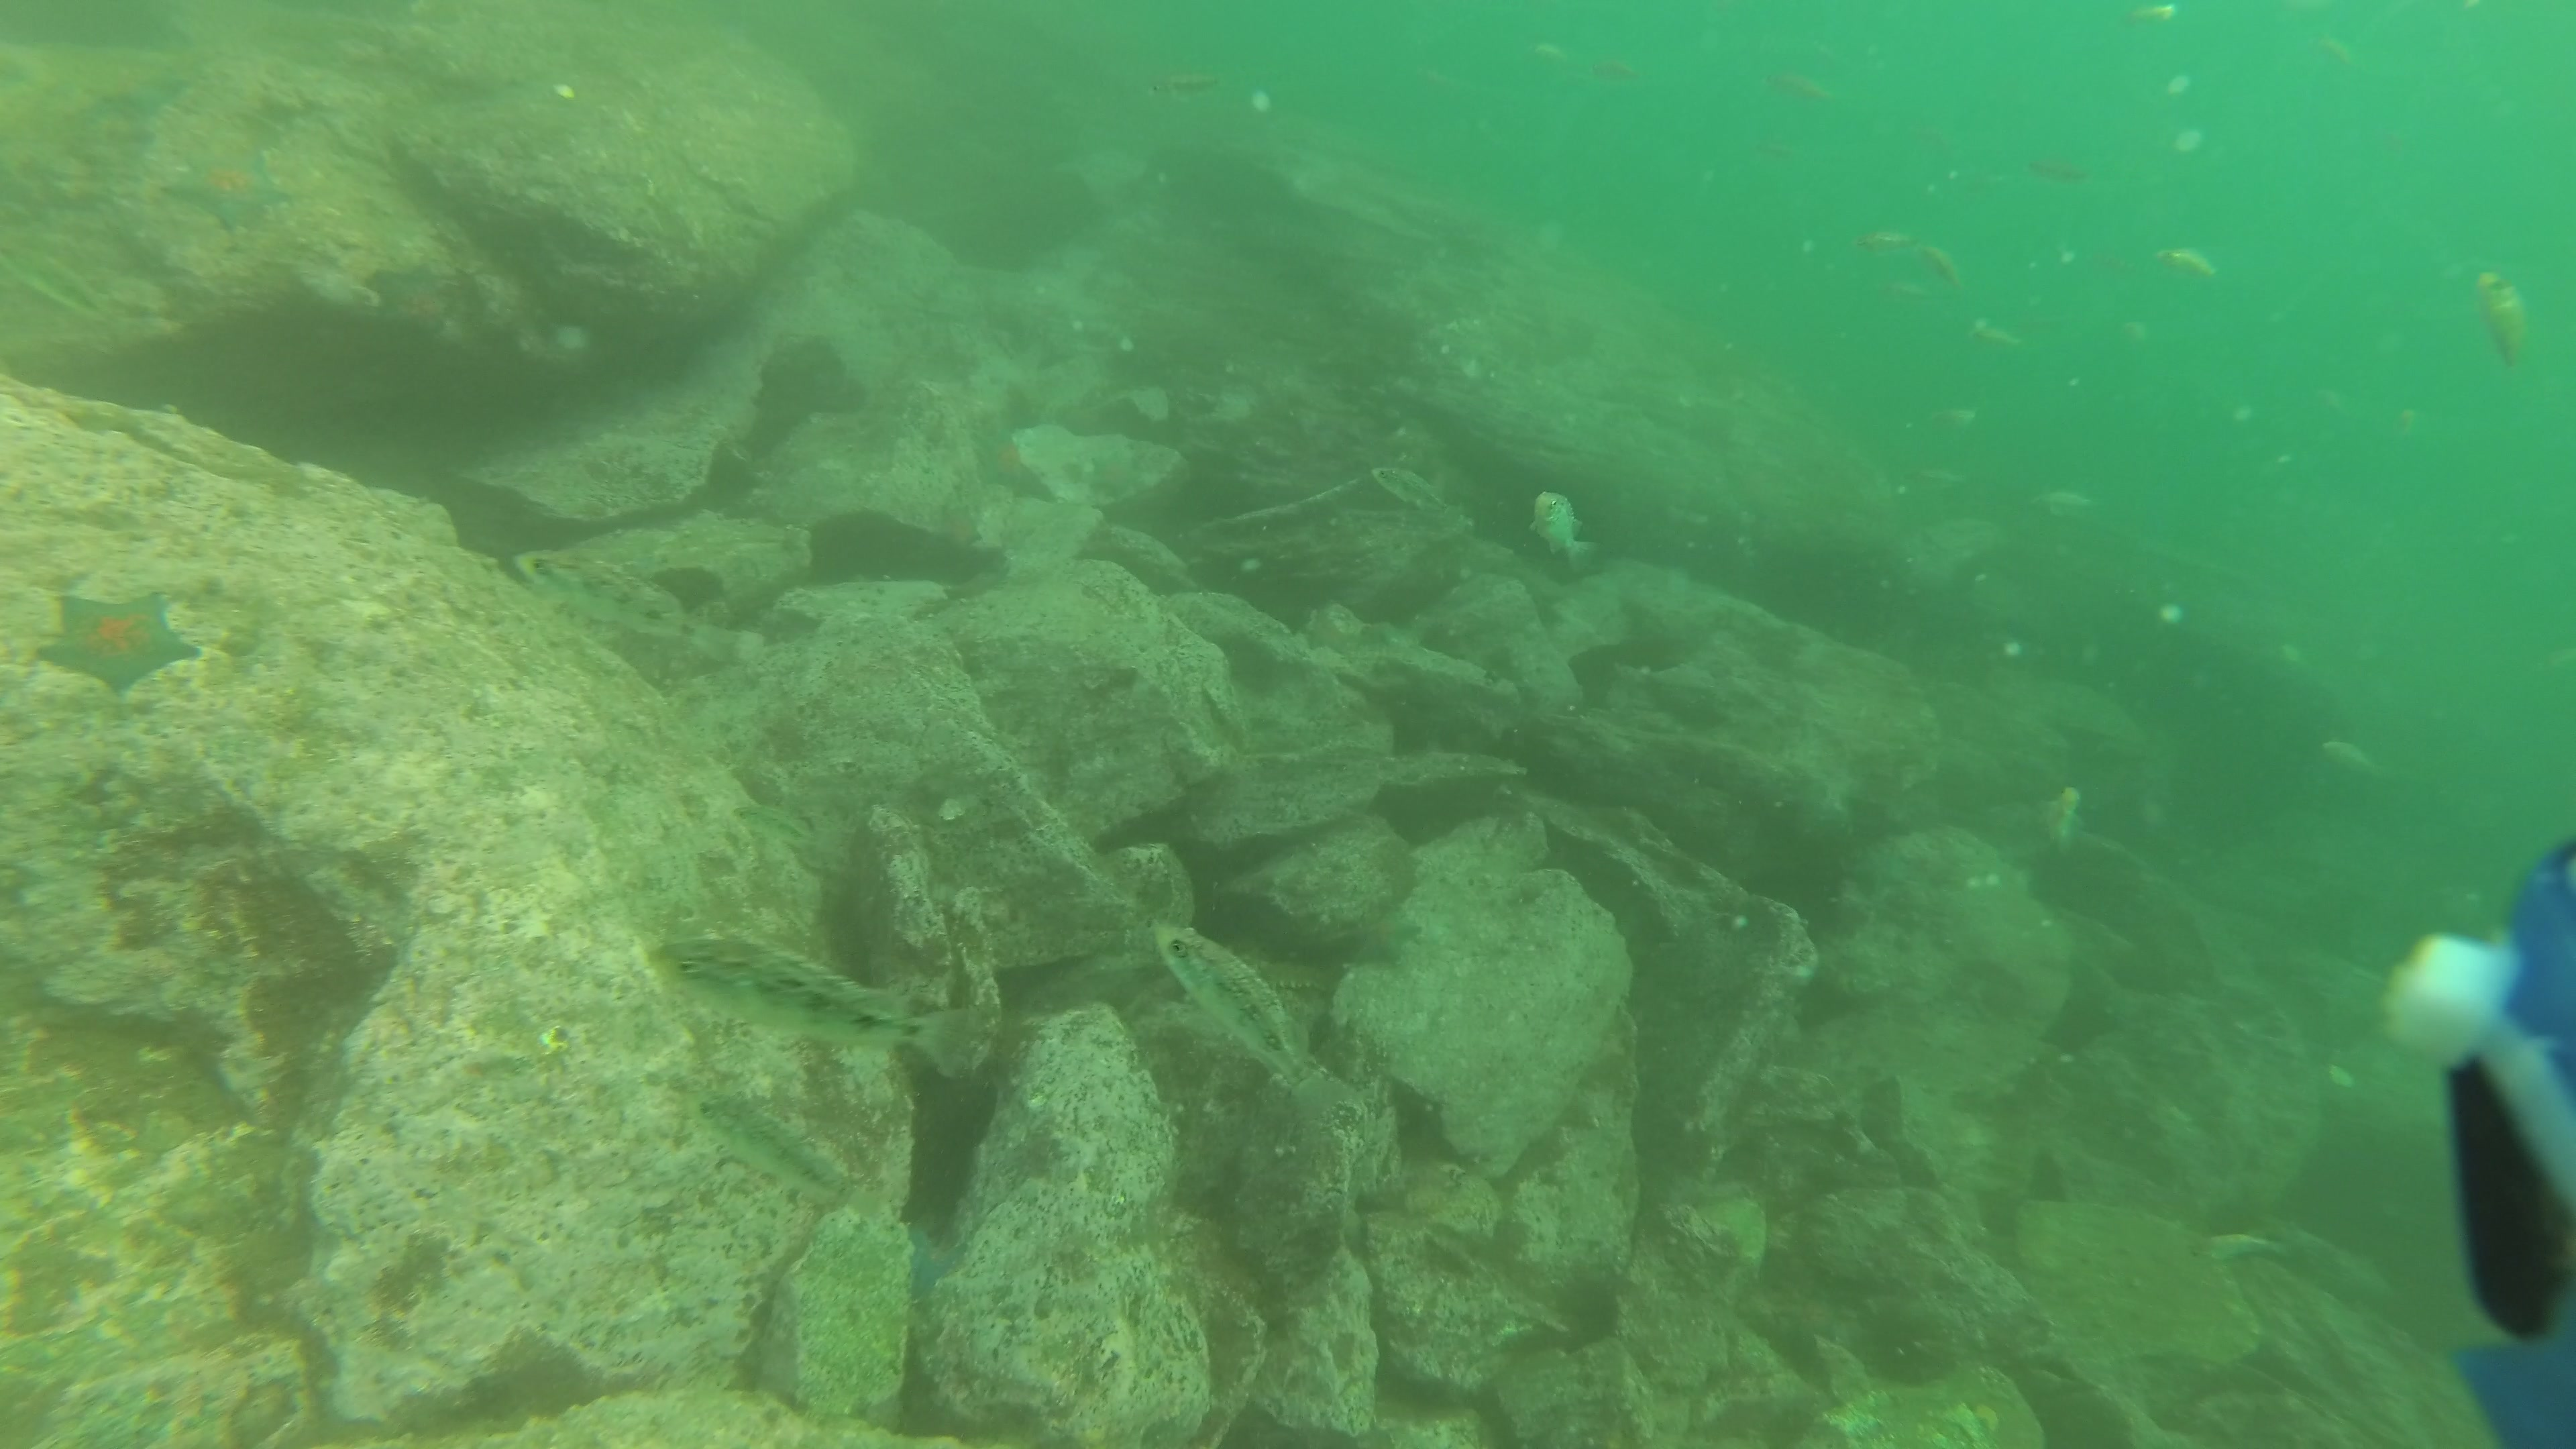holothurian: (1253, 955, 1345, 996)
starfish: (35, 586, 211, 699), (154, 143, 306, 239), (364, 260, 460, 345), (970, 425, 1060, 506), (1088, 448, 1146, 499), (934, 497, 985, 547)
